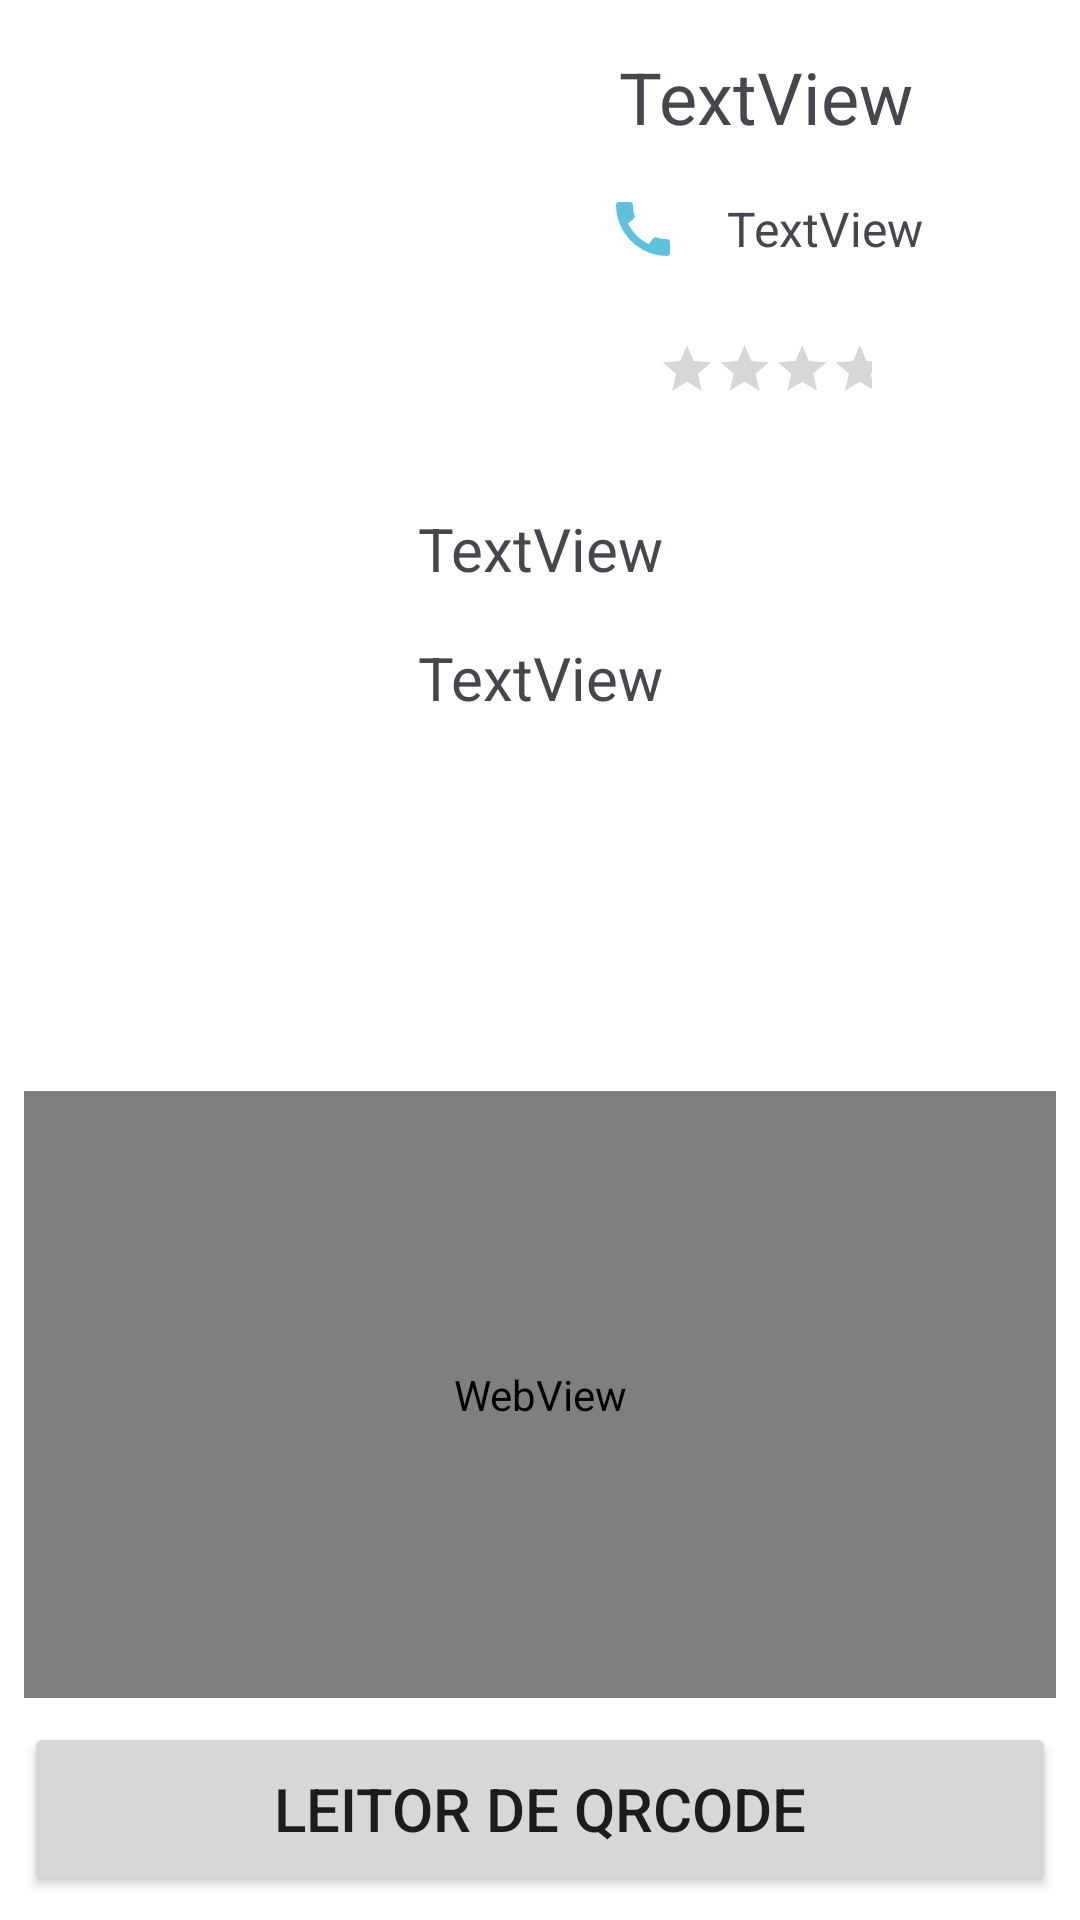

Where to tap for icons on this 1080x1920 app screen, as point (x, y):
phone tertiary: point (643, 229)
